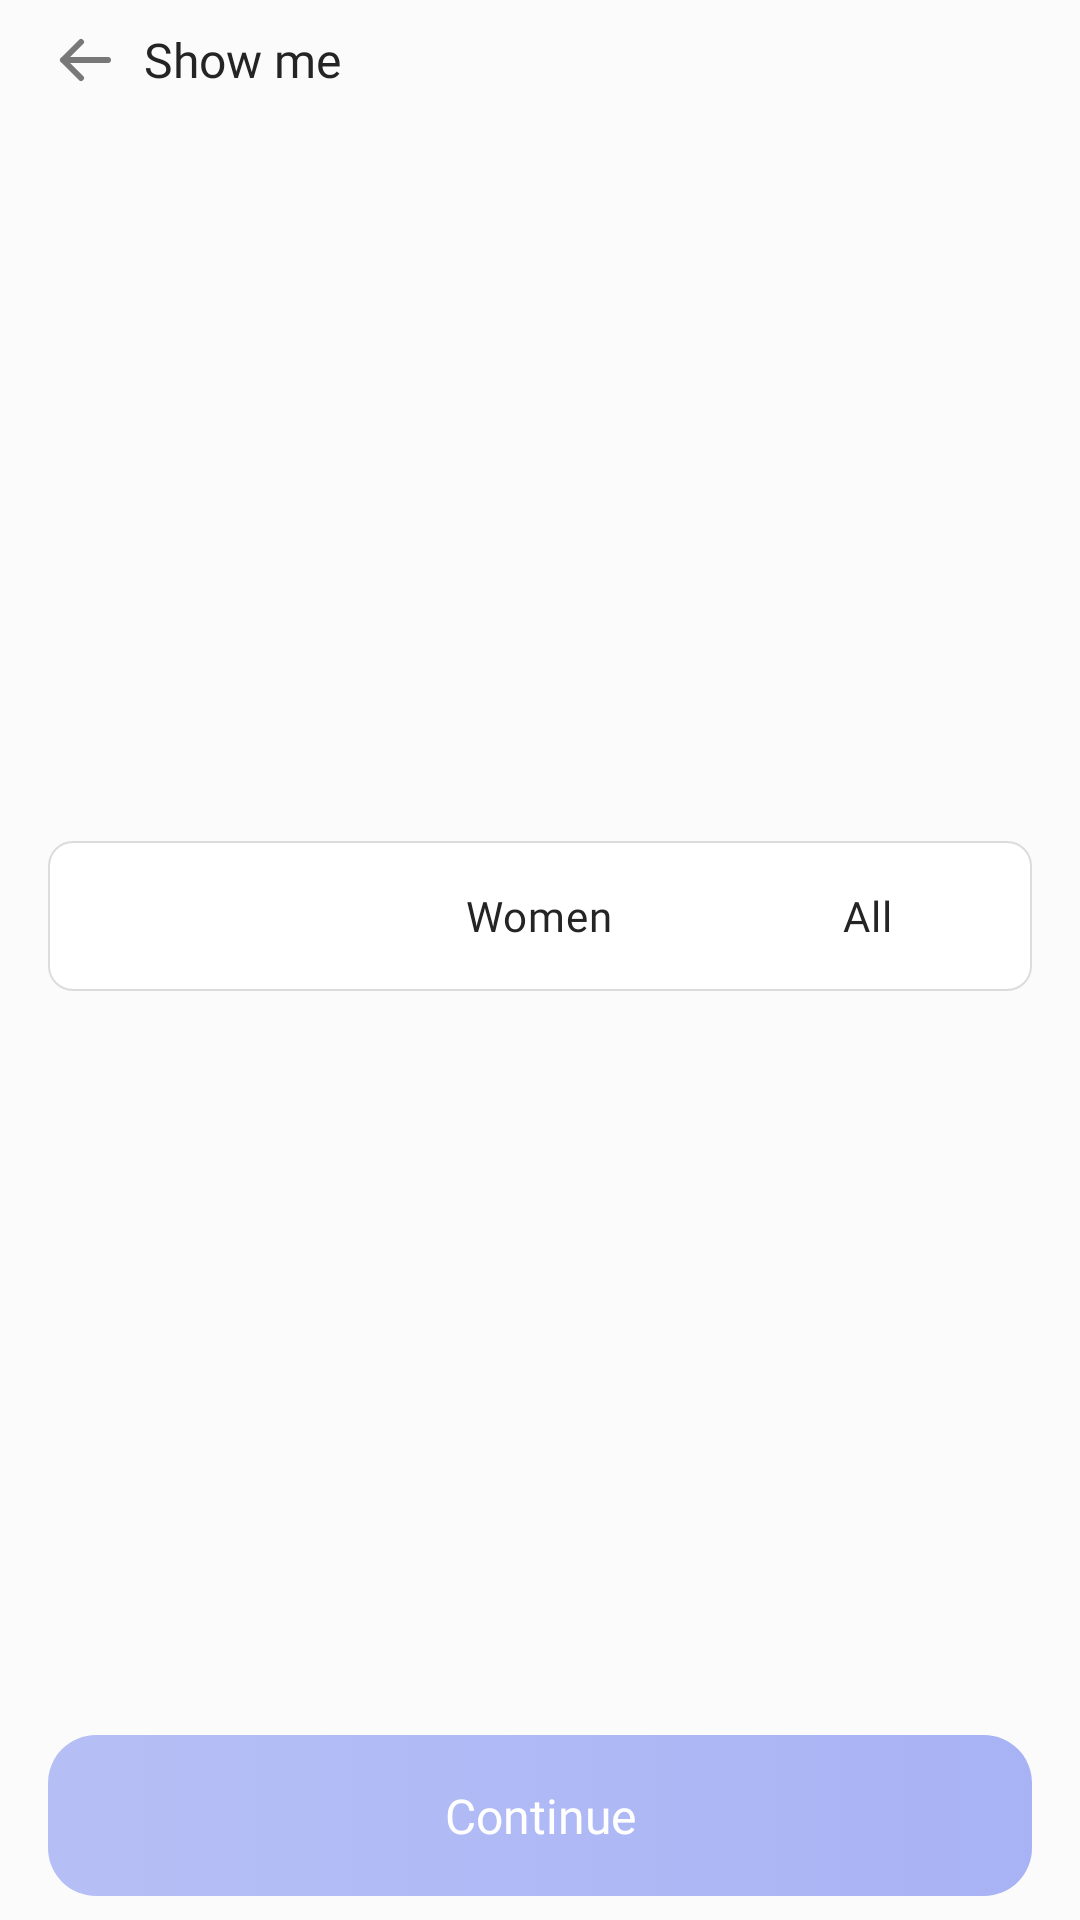

Icons on this 1080 x 1920 Android screen, each with the point to tap as (x,y):
Back: (85,60)
